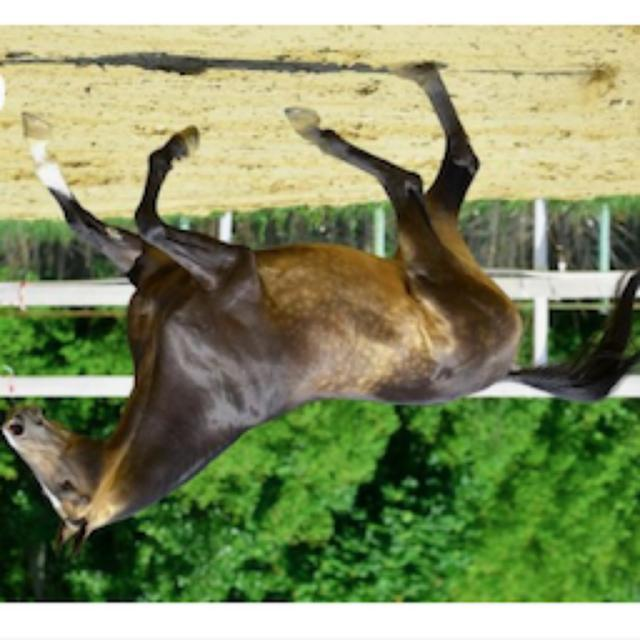Horse: (2, 60, 640, 558)
